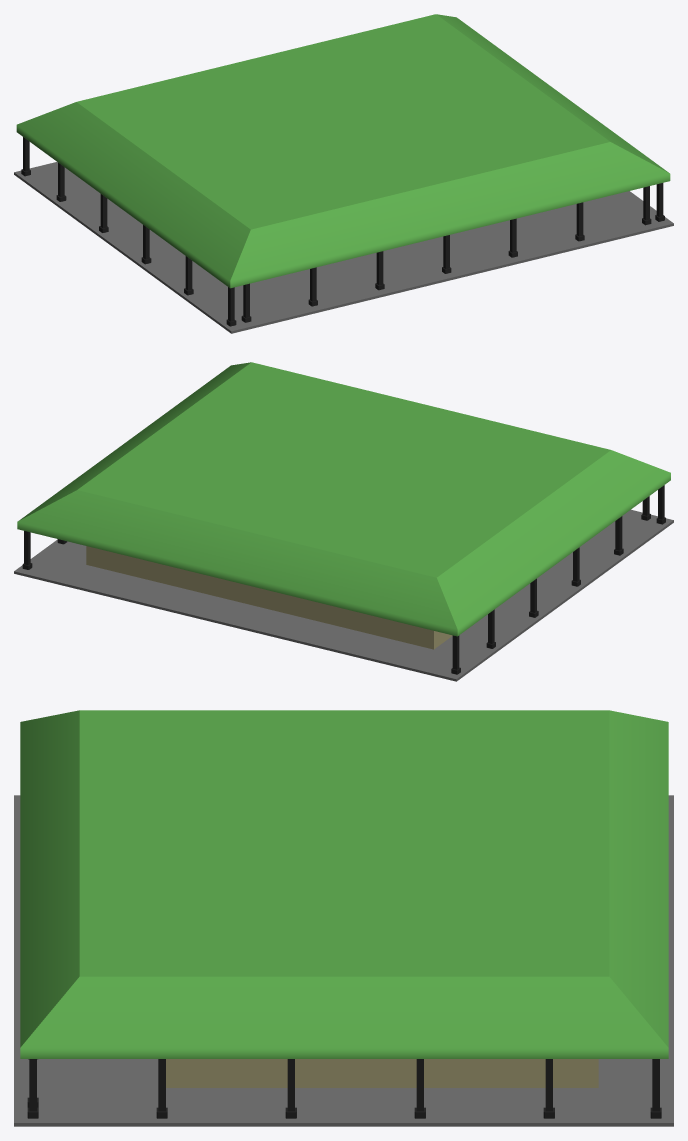
The model's file is Background.fbx.
3 renders of one model, top to bottom at view 1: azimuth 30°, elevation 25°; view 2: azimuth 150°, elevation 25°; view 3: azimuth 270°, elevation 25°, orthographic. The views are drawn at different scales.
Parts seen in each view (by area): view 1: Background; view 2: Background; view 3: Background.
Boxes of the visible parts, x1,y1,x2,y2 form: Background: [14, 14, 673, 333]; Background: [14, 362, 673, 681]; Background: [14, 710, 673, 1126].
Bounding box in the file's own units: 5735 × 970 × 4879.
